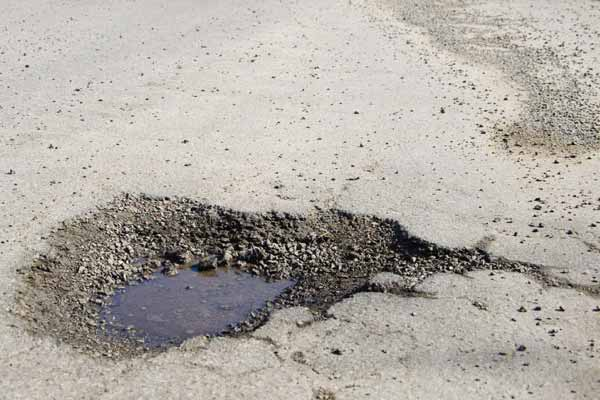pothole: (30, 169, 408, 357)
